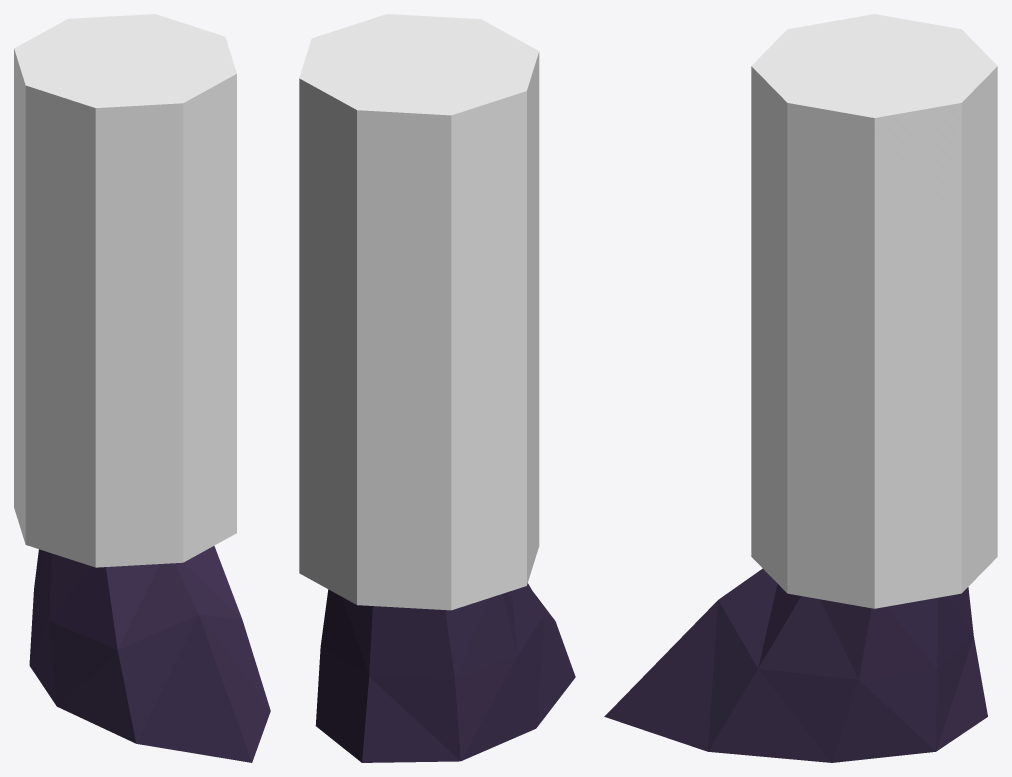
Rendered from left_feet.obj.
The picture shows the model from 3 angles, left to right: view 1: azimuth 30°, elevation 25°; view 2: azimuth 150°, elevation 25°; view 3: azimuth 270°, elevation 25°; orthographic projection. The views are drawn at different scales.
Parts seen in each view (by area): view 1: Cylinder; view 2: Cylinder; view 3: Cylinder.
Part boxes in pixels (left/top/right/bottom): Cylinder: left=14, top=14, right=270, bottom=762; Cylinder: left=299, top=14, right=575, bottom=762; Cylinder: left=604, top=14, right=997, bottom=762.
Bounding box in the file's own units: 2 × 5.83 × 3.19.
